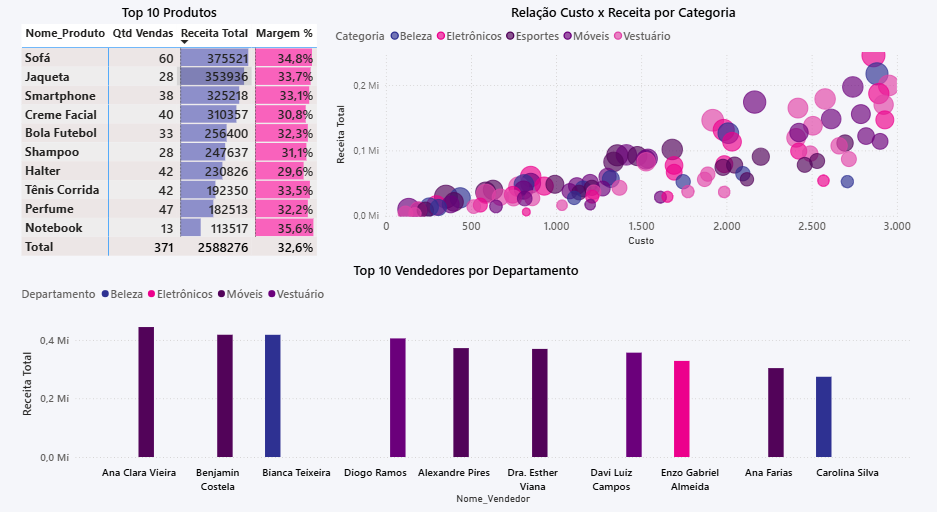

Layout of this report page (visuals, bound fields, positions):
{"tool":"powerbi","page":{"name":"Produtos & Vendedores","canvas":[1280,720],"ordinal":1},"visuals":[{"type":"pivotTable","title":"Top 10 Produtos","fields":{"Rows":["Produtos.Nome_Produto"],"Values":["Medidas.Qtd Vendas","Medidas.Receita Total","Medidas.Margem %"]},"box":[0,0,432,368],"z":0},{"type":"scatterChart","title":"Relação Custo x Receita por Categoria","fields":{"Series":["Produtos.Categoria"],"Size":["Sum(Vendas.Quantidade)"],"X":["Produtos.Custo"],"Y":["Medidas.Receita Total"]},"box":[448,0,832,352],"z":1000},{"type":"clusteredColumnChart","title":"Top 10 Vendedores por Departamento","fields":{"Category":["Vendedores.Nome_Vendedor"],"Series":["Vendedores.Departamento"],"Y":["Medidas.Receita Total"]},"box":[0,368,1280,352],"z":2000}]}

Visuals, with their boxes in screenshot pixels (x1, y1, x2, y2), scaled from the page's 1280x720 canvas onto the 937x512 screenshot:
"Top 10 Produtos" pivotTable: (0,0,316,262)
"Relação Custo x Receita por Categoria" scatterChart: (328,0,936,250)
"Top 10 Vendedores por Departamento" clusteredColumnChart: (0,262,936,511)
